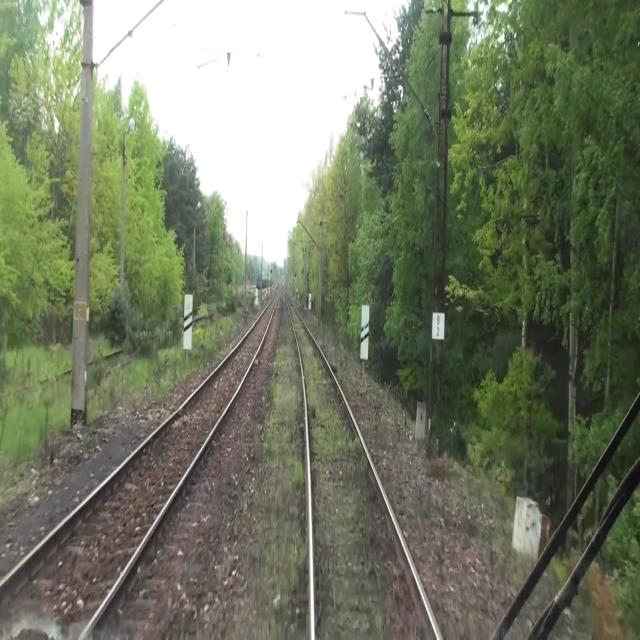rail-track: (0, 292, 278, 639), (285, 292, 432, 639)
